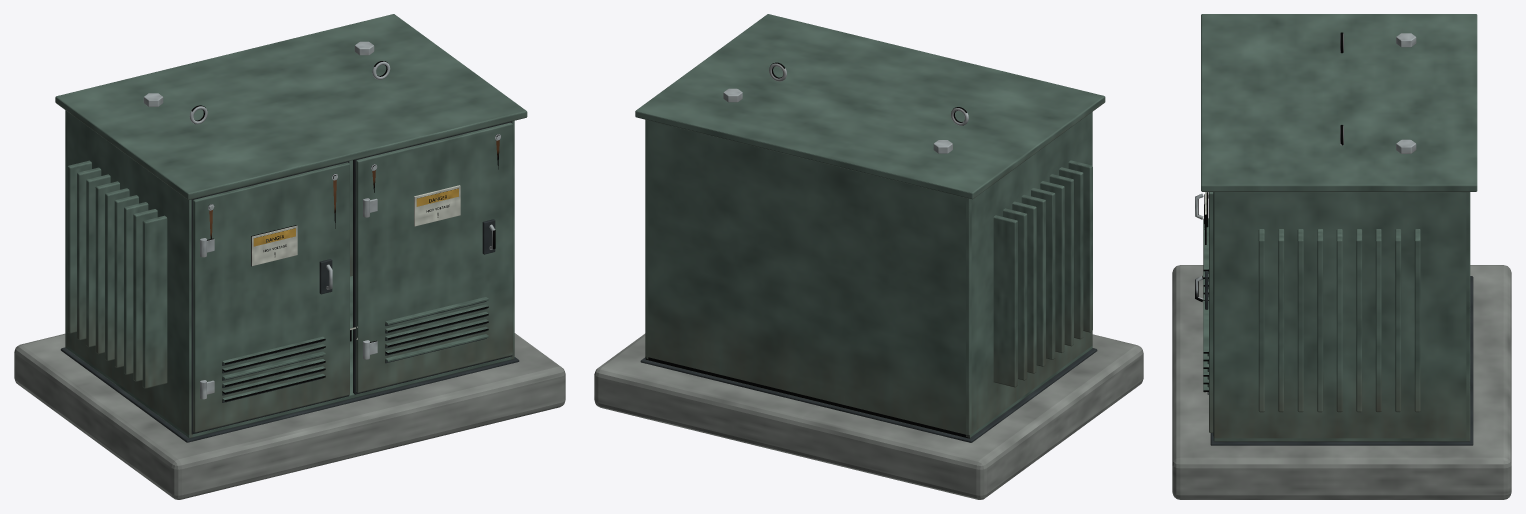
File: GR_PadTransformer_01.glb
3 renders of one model, left to right at view 1: azimuth 30°, elevation 25°; view 2: azimuth 150°, elevation 25°; view 3: azimuth 270°, elevation 25°, orthographic. The views are drawn at different scales.
Visible parts, largest first — view 1: Static; view 2: Static; view 3: Static.
Part boxes in pixels (bbox=[...]): Static: bbox=[14, 14, 565, 499]; Static: bbox=[594, 14, 1143, 499]; Static: bbox=[1172, 14, 1511, 499].
Bounding box in the file's own units: 2.05 × 1.56 × 1.48.
1 material, 1 textured.
